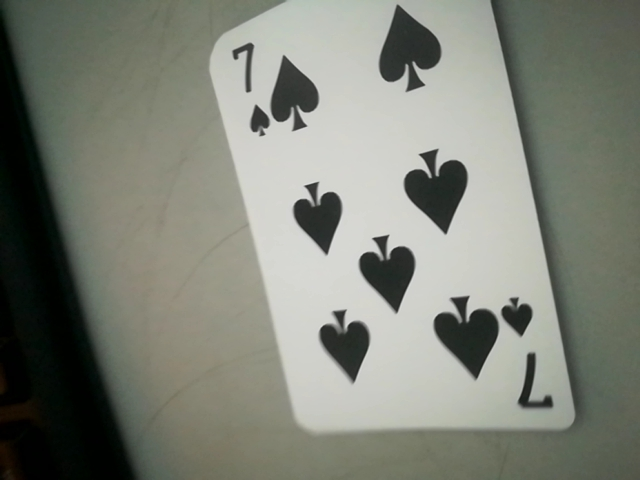ht 7: (221, 31, 275, 149)
